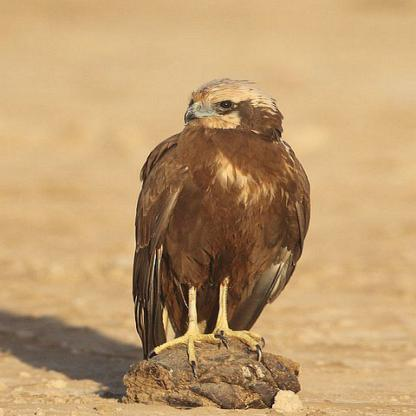Burung: (131, 74, 308, 369)
